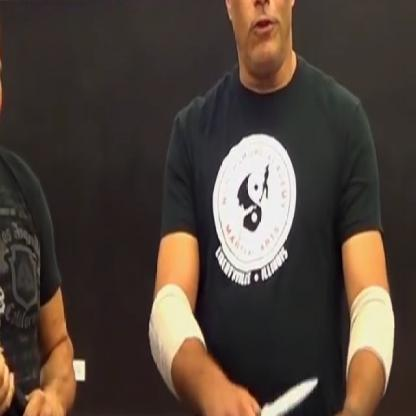knife: (216, 370, 322, 415)
